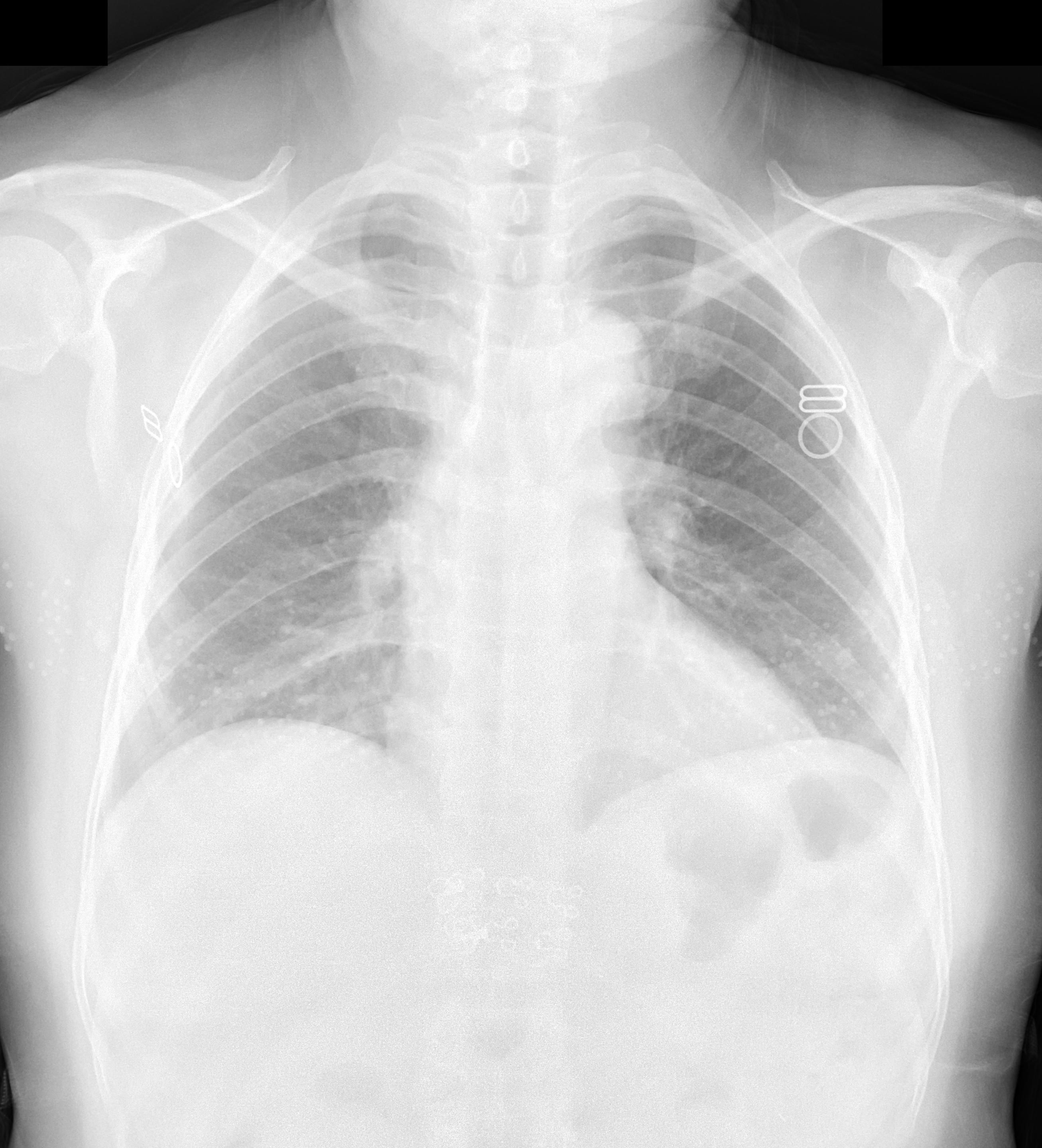Aortic enlargement: (514, 298, 655, 446)
Cardiomegaly: (384, 675, 832, 840)
Pleural thickening: (292, 185, 420, 231), (595, 185, 711, 217)
